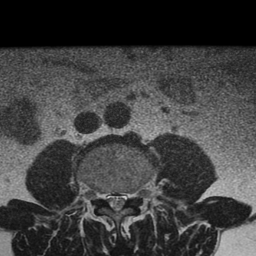CCS_stenosis: (113, 183, 121, 221)
LFS_normal: (129, 180, 138, 208)
LLS_stenosis: (121, 182, 130, 213)
RFS_normal: (95, 180, 105, 209)
RLS_stenosis: (105, 182, 113, 212)
